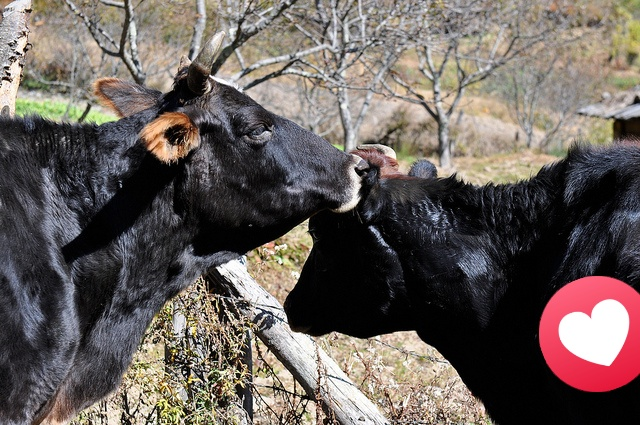love: (539, 276, 640, 392)
